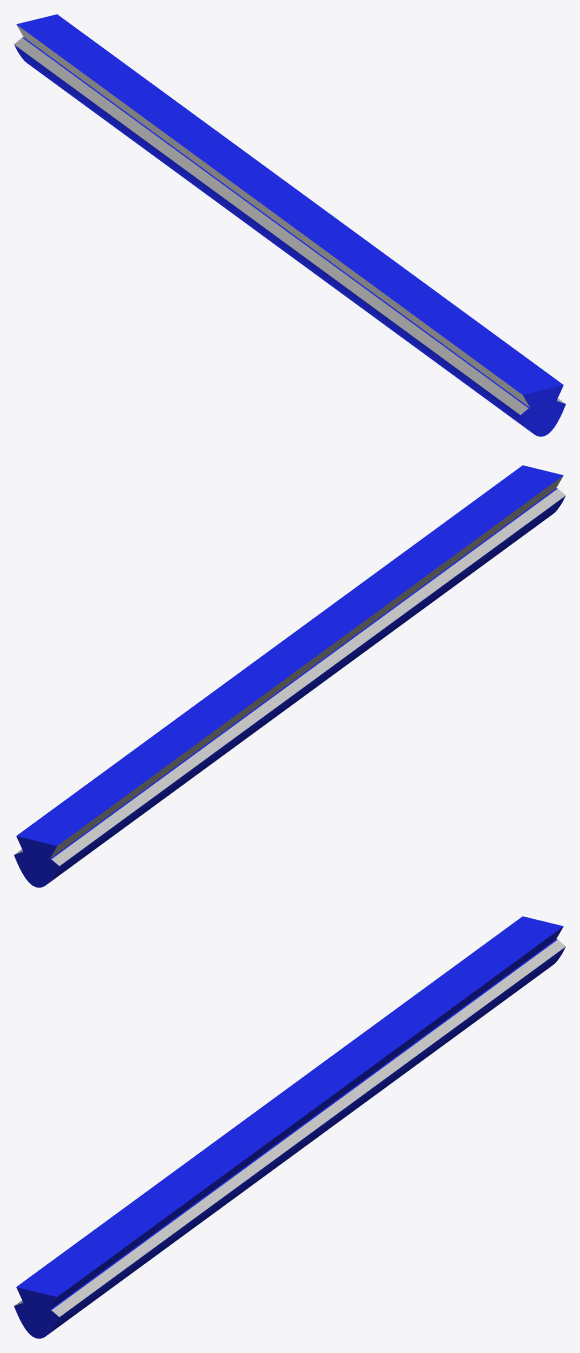
Rendered from spazzola - spazzola.obj.
3 views of the same model, one above another, from view 1: azimuth 30°, elevation 25°; view 2: azimuth 150°, elevation 25°; view 3: azimuth 330°, elevation 25° (orthographic).
Visible parts, largest first — view 1: Solid1; view 2: Solid1; view 3: Solid1.
Part boxes in pixels (x1=…): Solid1: x1=14, y1=14, x2=565, y2=436; Solid1: x1=14, y1=465, x2=565, y2=887; Solid1: x1=14, y1=916, x2=565, y2=1338.
Bounding box in the file's own units: 4.51 × 4.4 × 87.
